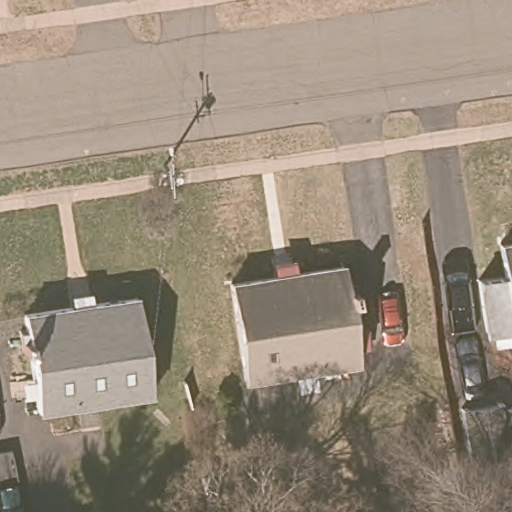DT: (163, 146, 184, 201)
